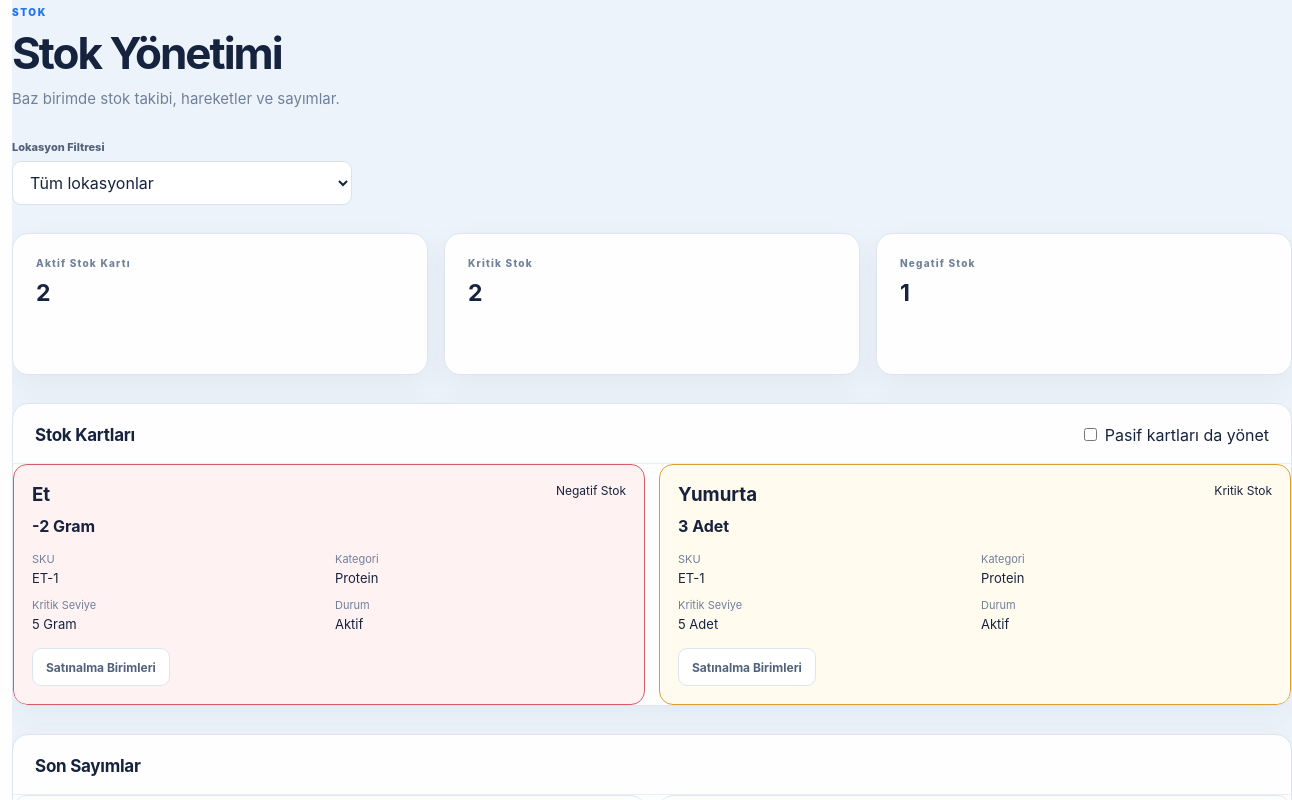
Test: inventory page access and balances › filters locations and fetches passive cards only when requested
Expected: the heading "Et" is shown, top-left (32, 483), bottom-right (50, 506)
Select "Merkez" in the dropdown labelled "Lokasyon Filtresi": [182, 183] box top-left (12, 161), bottom-right (352, 205)
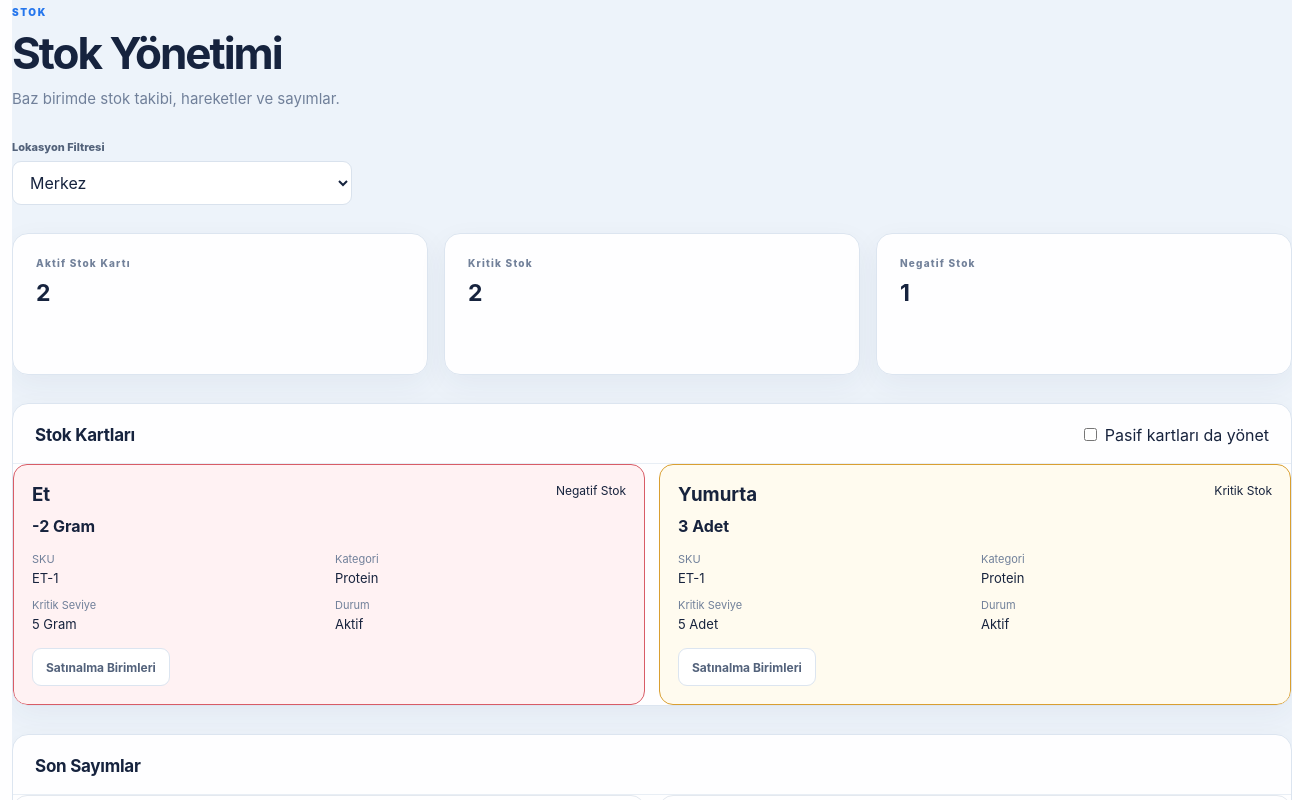
Click the checkbox labelled "Pasif kartları da yönet": [1091, 435] box top-left (1084, 428), bottom-right (1097, 441)
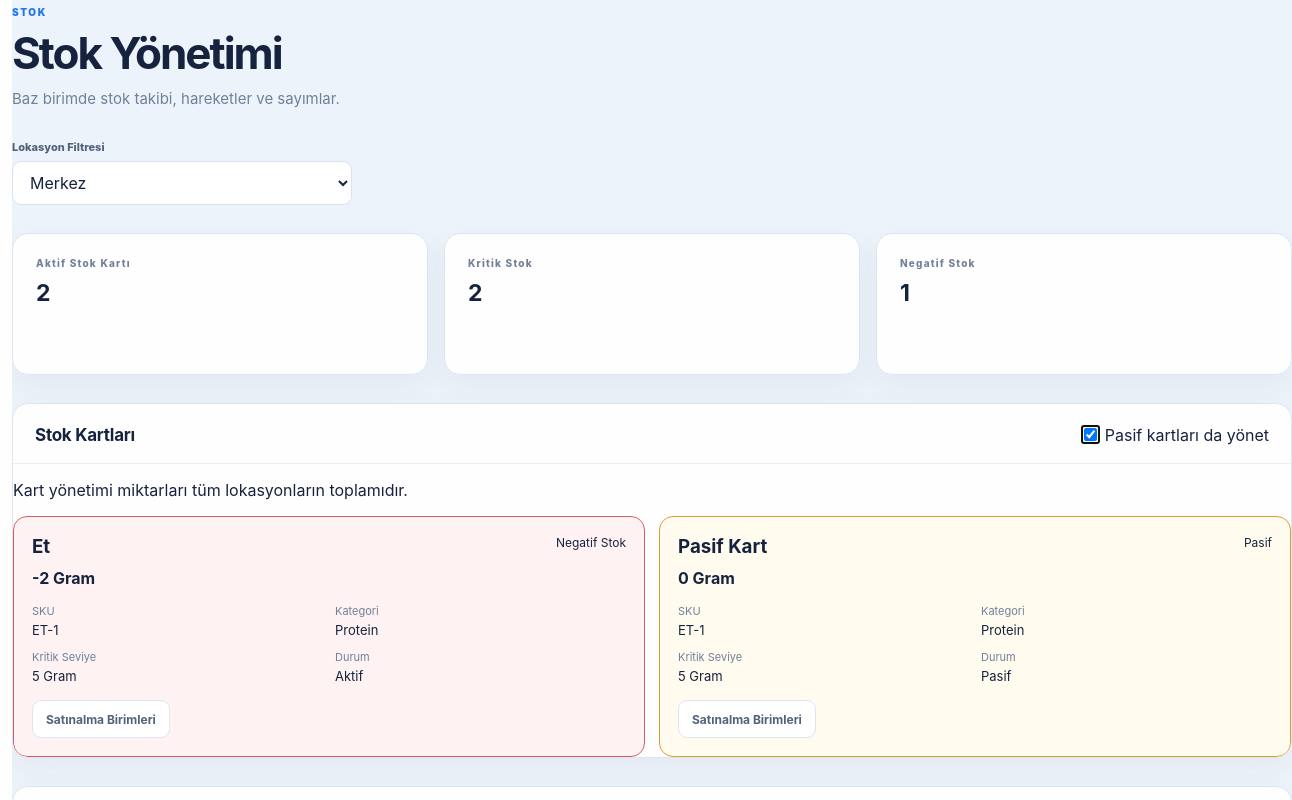
Expected: the heading "Pasif Kart" is shown, top-left (678, 535), bottom-right (767, 558)
